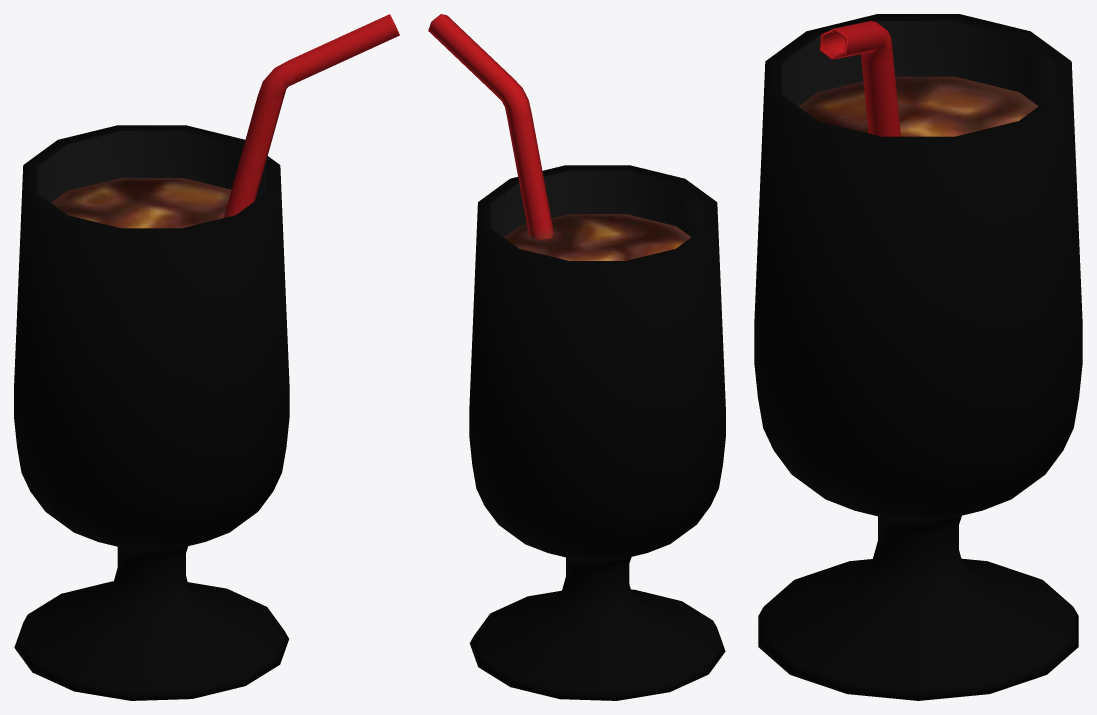
The picture shows the model from 3 angles, left to right: view 1: azimuth 30°, elevation 25°; view 2: azimuth 150°, elevation 25°; view 3: azimuth 270°, elevation 25°; orthographic projection. The views are drawn at different scales.
Size of the model in its own units: 3.46 by 6.04 by 2.49.
Materials: 3 (3 with a texture image).
